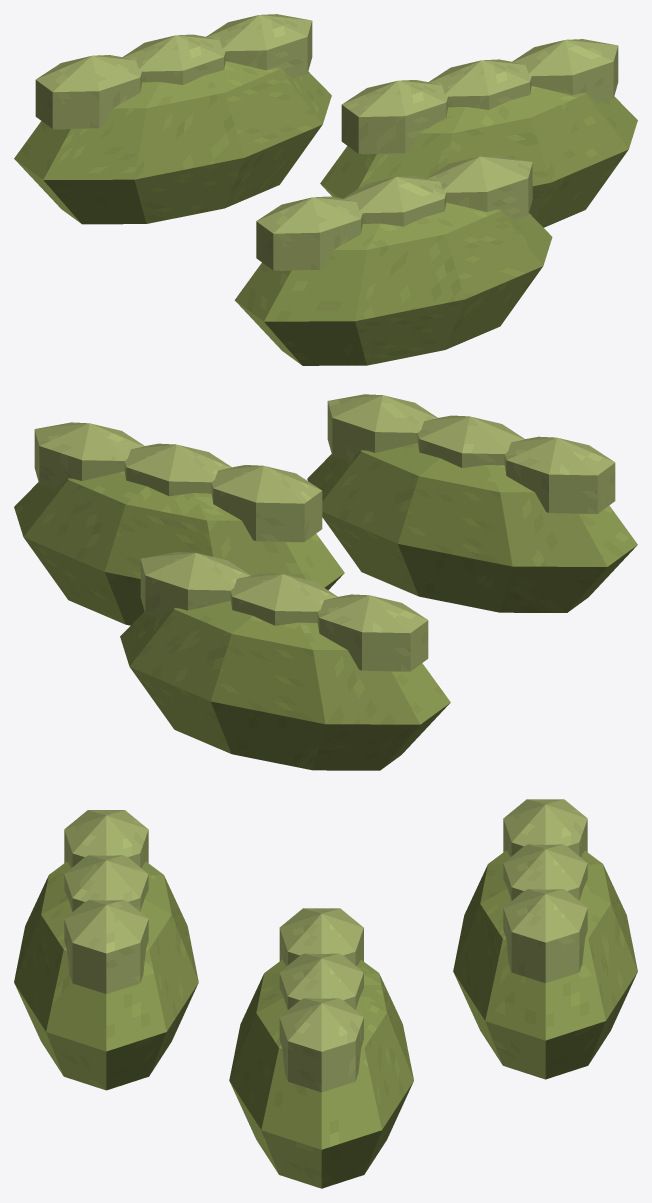
The model's file is hops.glb.
The picture shows the model from 3 angles, top to bottom: view 1: azimuth 30°, elevation 25°; view 2: azimuth 150°, elevation 25°; view 3: azimuth 270°, elevation 25°; orthographic projection. The views are drawn at different scales.
Parts seen in each view (by area): view 1: block_seed pod (×3), block_pale bract (×9); view 2: block_seed pod (×3), block_pale bract (×9); view 3: block_seed pod (×3), block_pale bract (×9).
Boxes of the visible parts, x1,y1,x2,y2 form: block_seed pod (×3): (14,61,637,365); block_pale bract (×9): (35,14,618,270); block_seed pod (×3): (14,443,637,770); block_pale bract (×9): (34,394,615,671); block_seed pod (×3): (14,850,637,1188); block_pale bract (×9): (64,799,587,1092).
Bounding box in the file's own units: 0.0891 × 0.0302 × 0.0865.
Materials: 1 (1 with a texture image).
